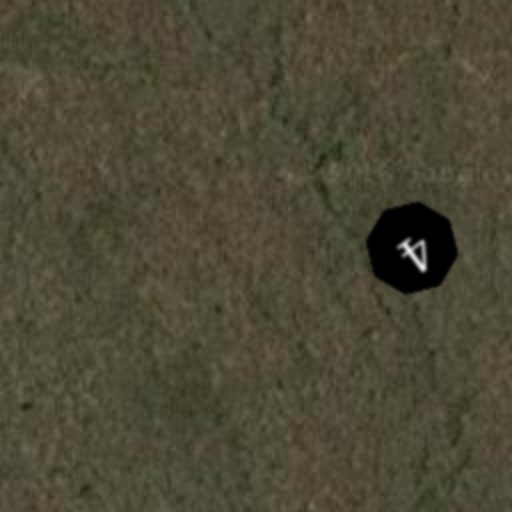octagon: (344, 180, 480, 316)
